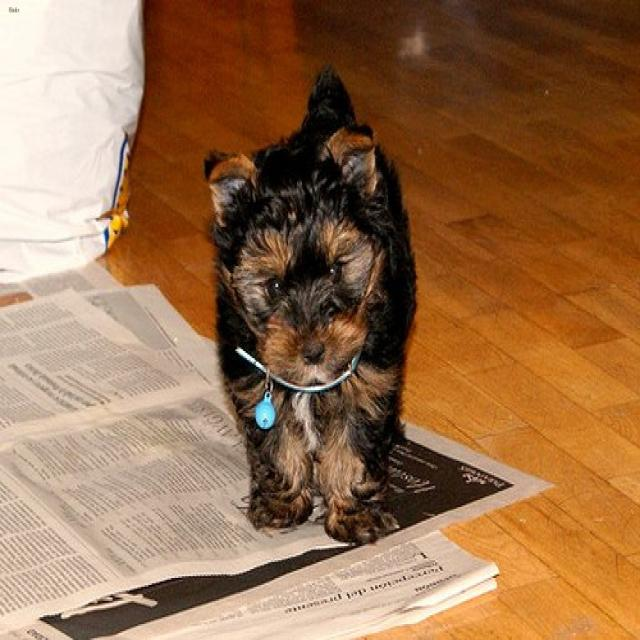dog-yorkshire_terrier: (189, 50, 425, 555)
